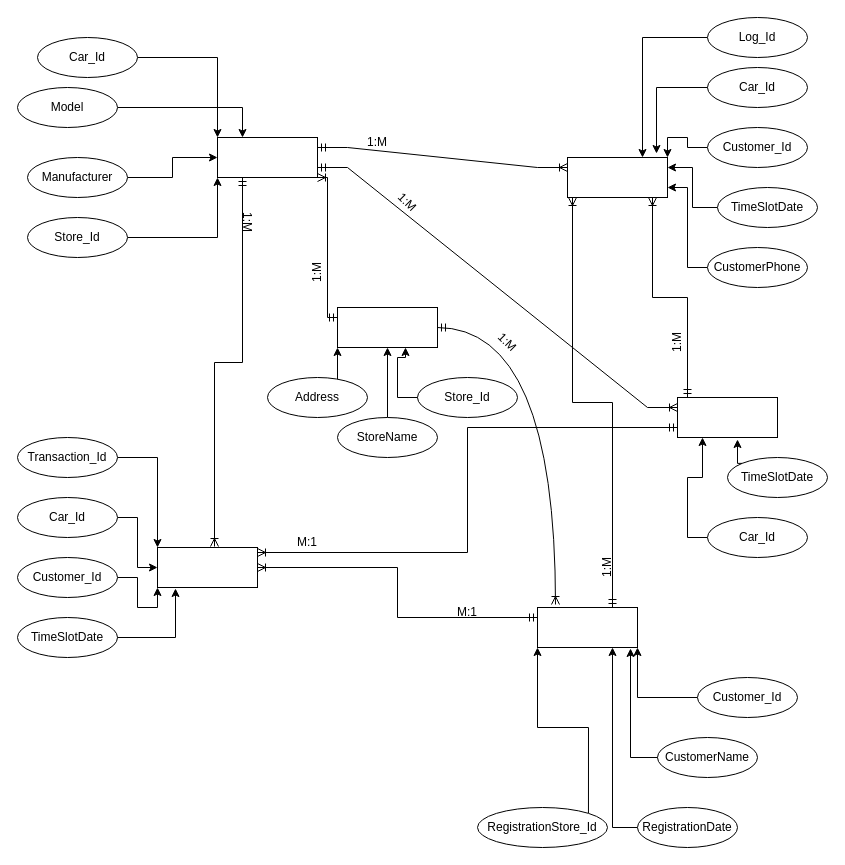
Some shapes in this 845 by 865 pixel diagram are drawn without their labels. The shapes that lost their labels are listed below. From the top down, each one's centre as x and y in pixels, then its label:
At point (267, 157): "Car".
At point (617, 177): "RentalLog".
At point (387, 327): "Store".
At point (727, 417): "TimeSlot".
At point (207, 567): "RentalTransaction".
At point (587, 627): "Customer".
